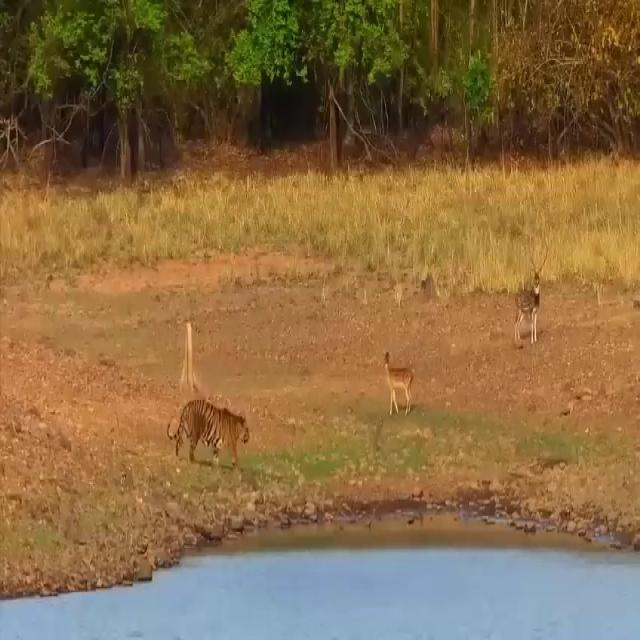tiger: (166, 398, 250, 467)
